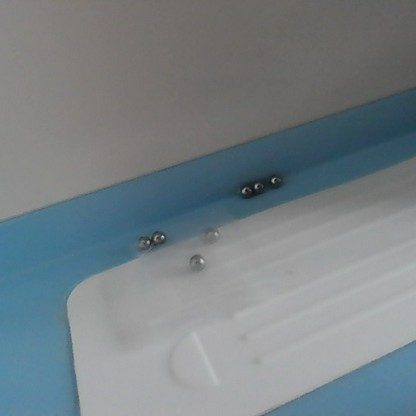ironball: (200, 223, 222, 246), (266, 170, 285, 189), (186, 253, 206, 270), (133, 232, 150, 250), (151, 229, 168, 245), (250, 177, 265, 194), (236, 182, 251, 197)
